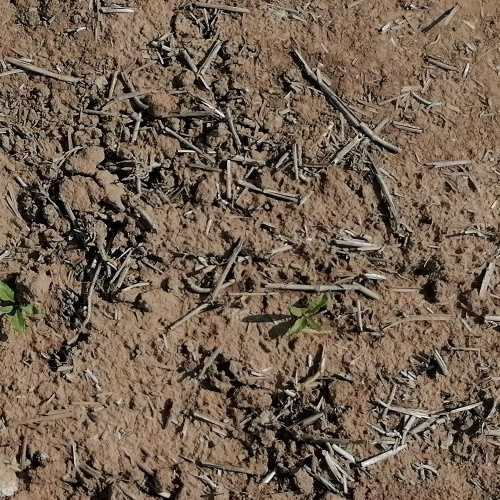beet: (0, 280, 38, 333), (288, 294, 329, 335)
